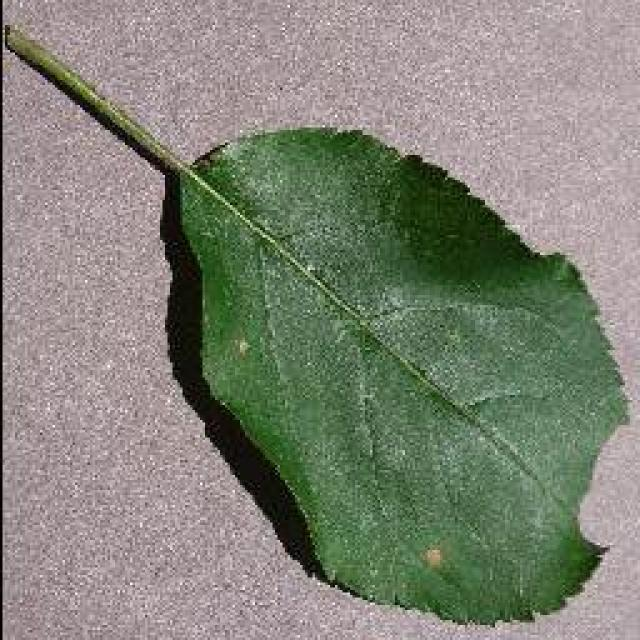apple healthy: (158, 123, 630, 625)
